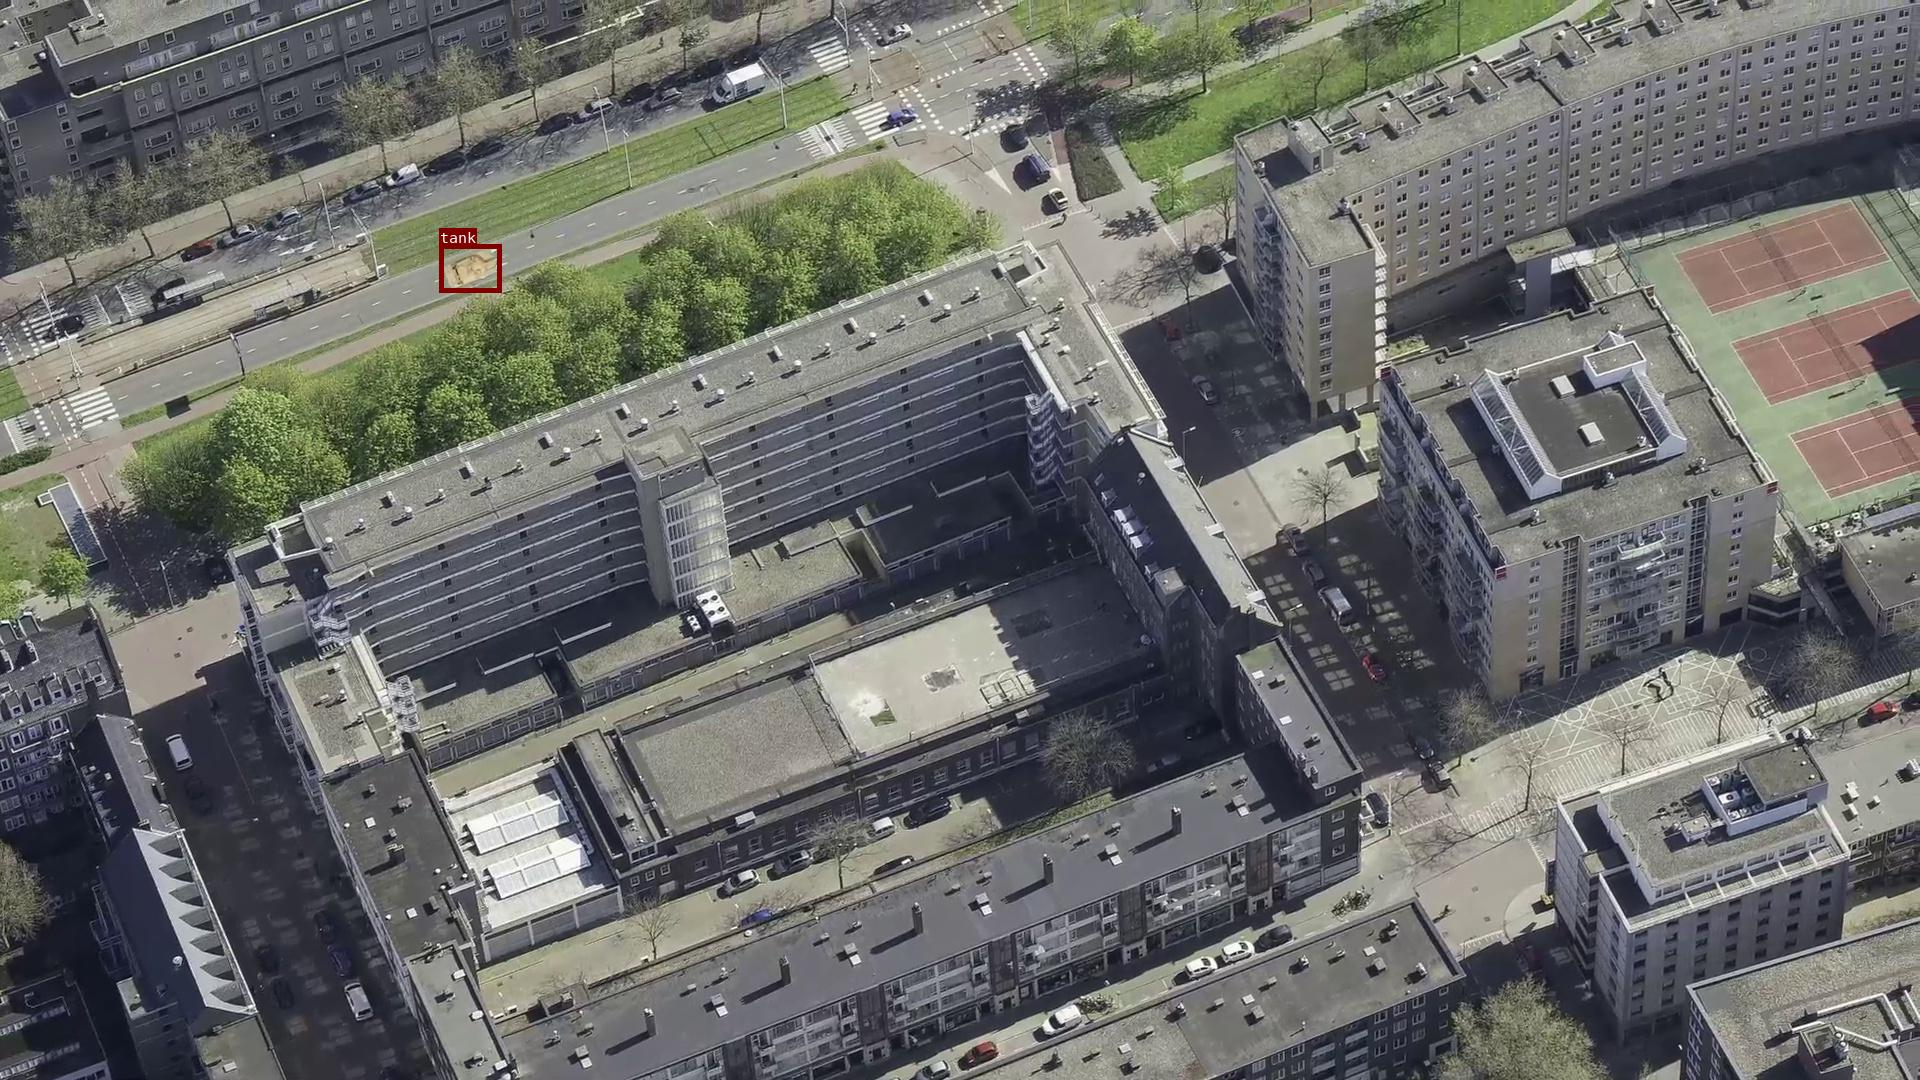tank: (439, 244, 501, 291)
